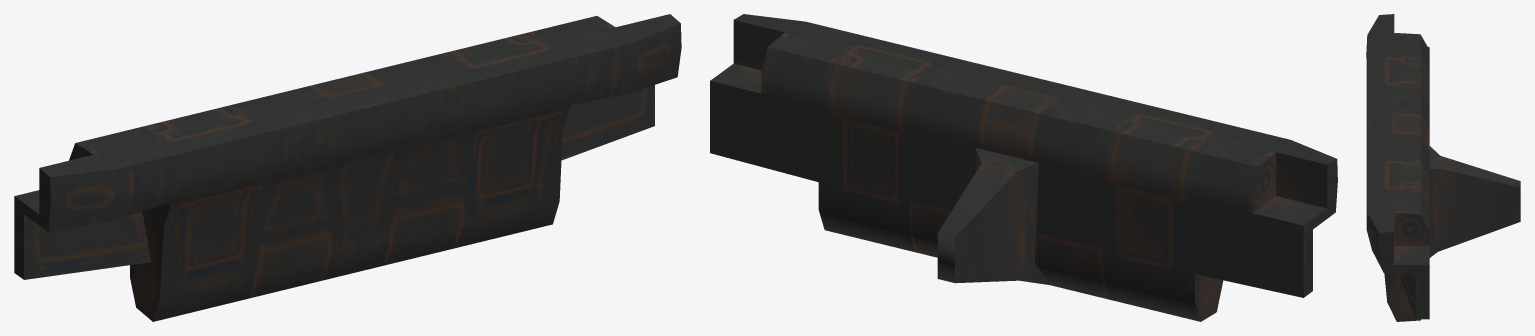
Rendered from track2_segment1.glb.
3 views of the same model, side by side, from view 1: azimuth 30°, elevation 25°; view 2: azimuth 150°, elevation 25°; view 3: azimuth 270°, elevation 25° (orthographic). The views are drawn at different scales.
Visible parts, largest first — view 1: set_0_group_0; view 2: set_0_group_0; view 3: set_0_group_0.
Part boxes in pixels (x1,y1,x2,y2): set_0_group_0: (14,14,681,321); set_0_group_0: (710,14,1337,321); set_0_group_0: (1366,14,1520,321).
Bounding box in the file's own units: 0.6361 × 0.1769 × 0.19.
Materials: 1 (1 with a texture image).
